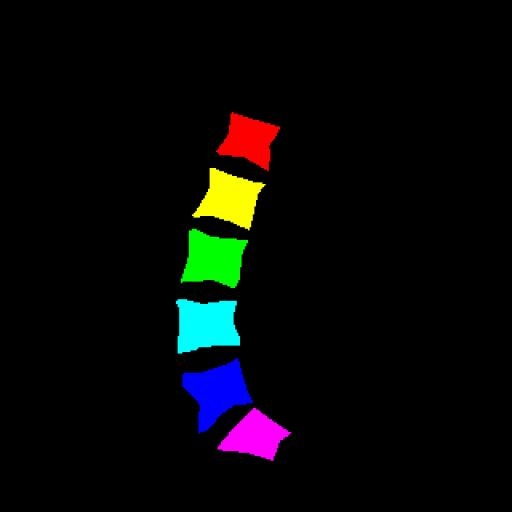L1: (217, 112, 280, 170)
L2: (193, 168, 265, 230)
L3: (181, 229, 248, 288)
L4: (176, 299, 240, 354)
L5: (183, 359, 252, 433)
S1: (218, 408, 291, 460)
